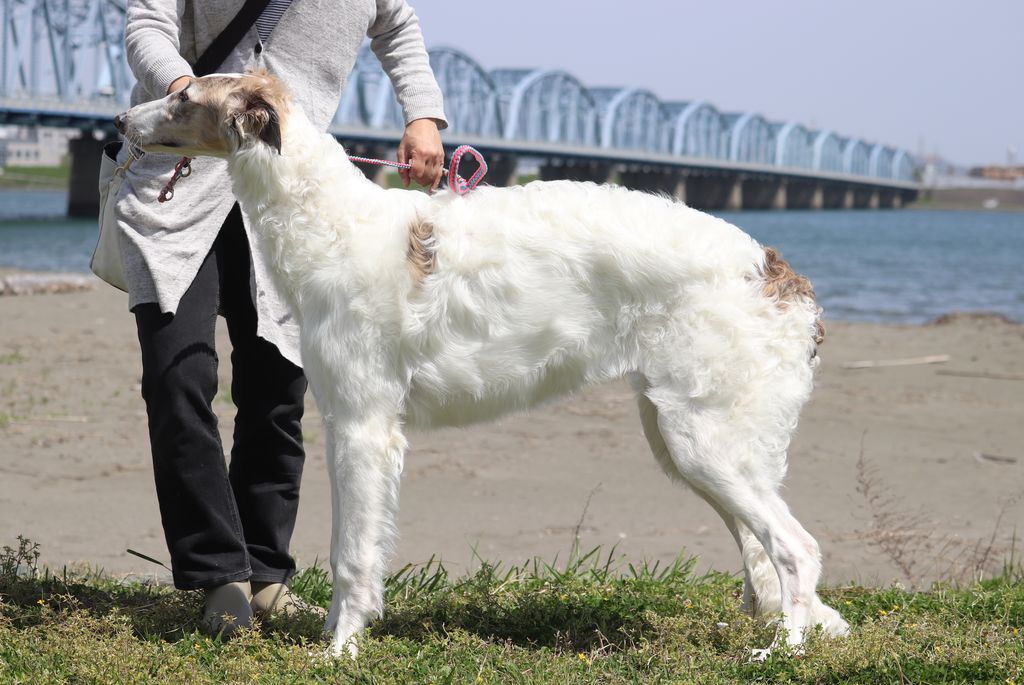borzoi: (94, 63, 876, 668)
